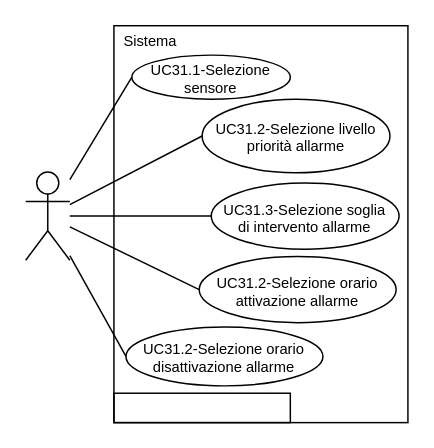
The diagram is 434 pixels wide and 448 high, and some of its shapes have lost their labels. The box of each missing label's shape, as (x1, y1, x2, y2) in pixels:
UC31-Creazione allarme: (112, 392, 290, 423)
Utente: (24, 171, 70, 260)
